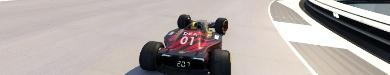Car: (138, 14, 231, 74)
Solid White and black: (266, 0, 389, 74)
grass: (0, 0, 389, 74)
